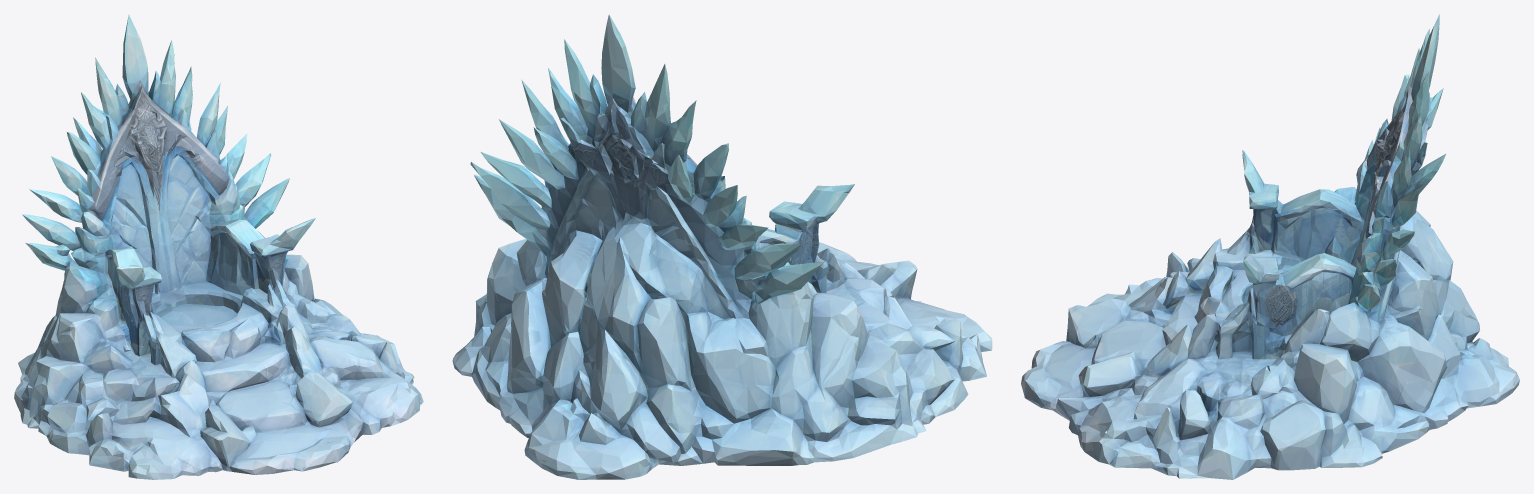
The model's file is Create_an_Low_poly_Ic_0521153826_texture.fbx.
The picture shows the model from 3 angles, left to right: view 1: azimuth 30°, elevation 25°; view 2: azimuth 150°, elevation 25°; view 3: azimuth 270°, elevation 25°; orthographic projection. The views are drawn at different scales.
Visible parts, largest first — view 1: temp; view 2: temp; view 3: temp.
Boxes of the visible parts, <box> form: temp: <box>14,14,423,479</box>; temp: <box>452,14,992,479</box>; temp: <box>1021,14,1519,479</box>.
Bounding box in the file's own units: 182 × 163 × 200.
1 material, 1 textured.
